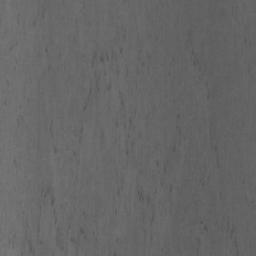Silk spot: (0, 0, 185, 256), (4, 41, 65, 128), (170, 192, 251, 256), (185, 120, 220, 186), (186, 30, 217, 99)
